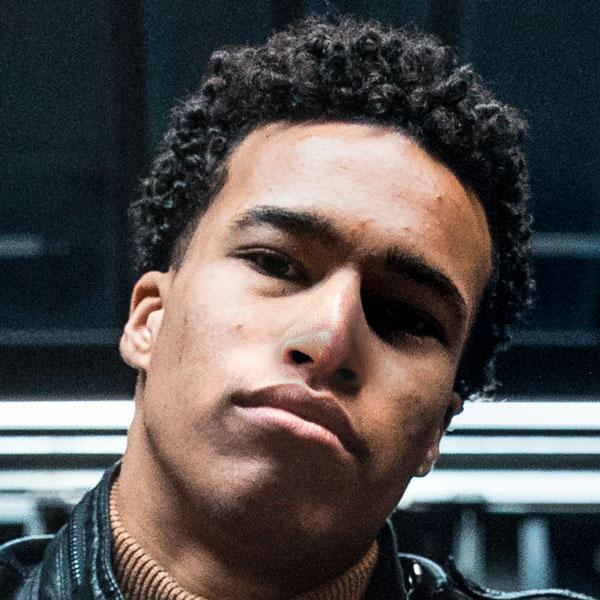Eyes: (360, 276, 450, 361), (218, 232, 315, 297)
